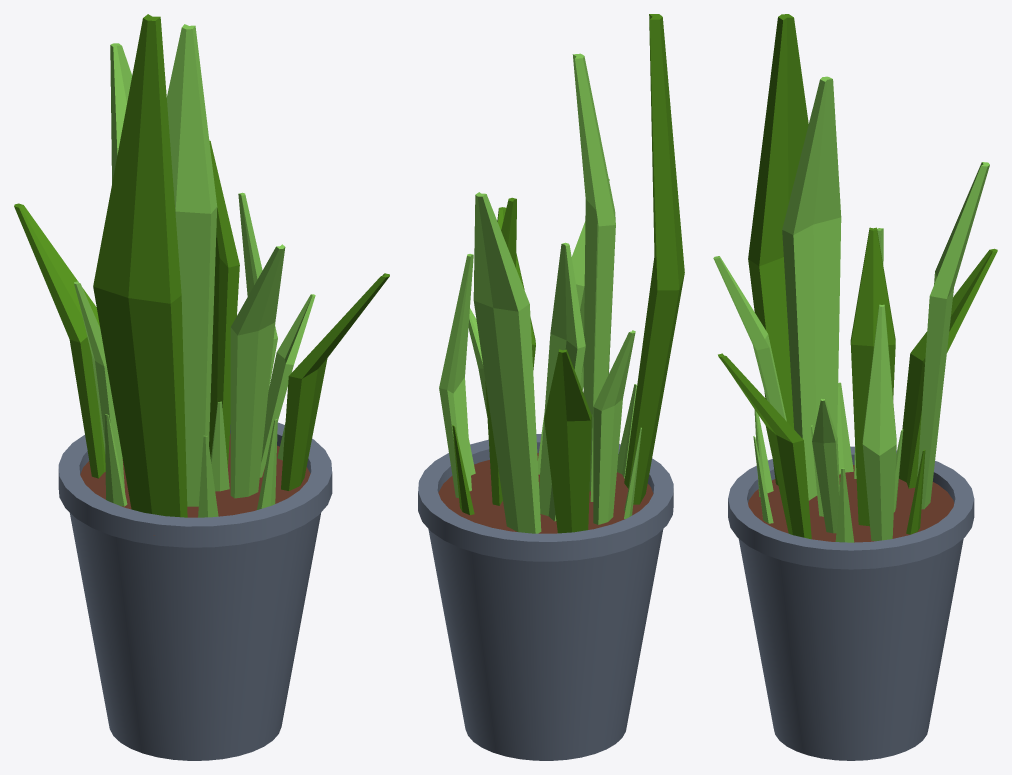
The model's file is SnakePlant.fbx.
3 renders of one model, left to right at view 1: azimuth 30°, elevation 25°; view 2: azimuth 150°, elevation 25°; view 3: azimuth 270°, elevation 25°, orthographic. The views are drawn at different scales.
Visible parts, largest first — view 1: Cylinder, Cube.010, Cube.001, Cube.004, Cube.012, Cube.011, Cube, Cube.007, Plane, Cube.006, Cube.005, Cube.009 (+4 smaller); view 2: Cylinder, Cube.005, Cube.010, Cube.001, Cube.012, Cube.006, Cube.002, Cube.009, Plane, Cube, Cube.004, Cube.014 (+3 smaller); view 3: Cylinder, Cube.001, Cube.010, Cube.005, Cube.009, Cube, Cube.011, Plane, Cube.012, Cube.007, Cube.004, Cube.017 (+4 smaller).
Boxes of the visible parts, box(x1,y1,x2,y2) form: Cylinder: box(58, 422, 332, 760); Cube.010: box(93, 14, 187, 517); Cube.001: box(166, 24, 217, 506); Cube.004: box(230, 244, 285, 498); Cube.012: box(14, 203, 105, 478); Cube.011: box(281, 273, 389, 490); Cube: box(209, 140, 239, 467); Cube.007: box(259, 294, 315, 477); Plane: box(80, 433, 310, 535); Cube.006: box(74, 281, 124, 491); Cube.005: box(110, 43, 132, 183); Cube.009: box(238, 192, 277, 391); Cylinder: box(418, 434, 673, 760); Cube.005: box(473, 192, 541, 533); Cube.010: box(624, 14, 684, 504); Cube.001: box(572, 53, 615, 501); Cube.012: box(544, 349, 591, 533); Cube.006: box(593, 330, 635, 524); Cube.002: box(539, 242, 585, 521); Cube.009: box(439, 254, 473, 497); Plane: box(438, 453, 653, 533); Cube: box(485, 197, 516, 505); Cube.004: box(537, 179, 609, 474); Cube.014: box(452, 425, 474, 514); Cylinder: box(728, 446, 974, 760); Cube.001: box(782, 76, 841, 500); Cube.010: box(748, 14, 808, 485); Cube.005: box(917, 162, 989, 509); Cube.009: box(862, 304, 896, 541); Cube: box(850, 227, 895, 526); Cube.011: box(718, 353, 811, 539); Plane: box(748, 465, 954, 542); Cube.012: box(899, 248, 997, 488); Cube.007: box(812, 399, 839, 533); Cube.004: box(713, 256, 786, 421); Cube.017: box(837, 382, 853, 474).
Bounding box in the file's own units: 218 × 640 × 244.
